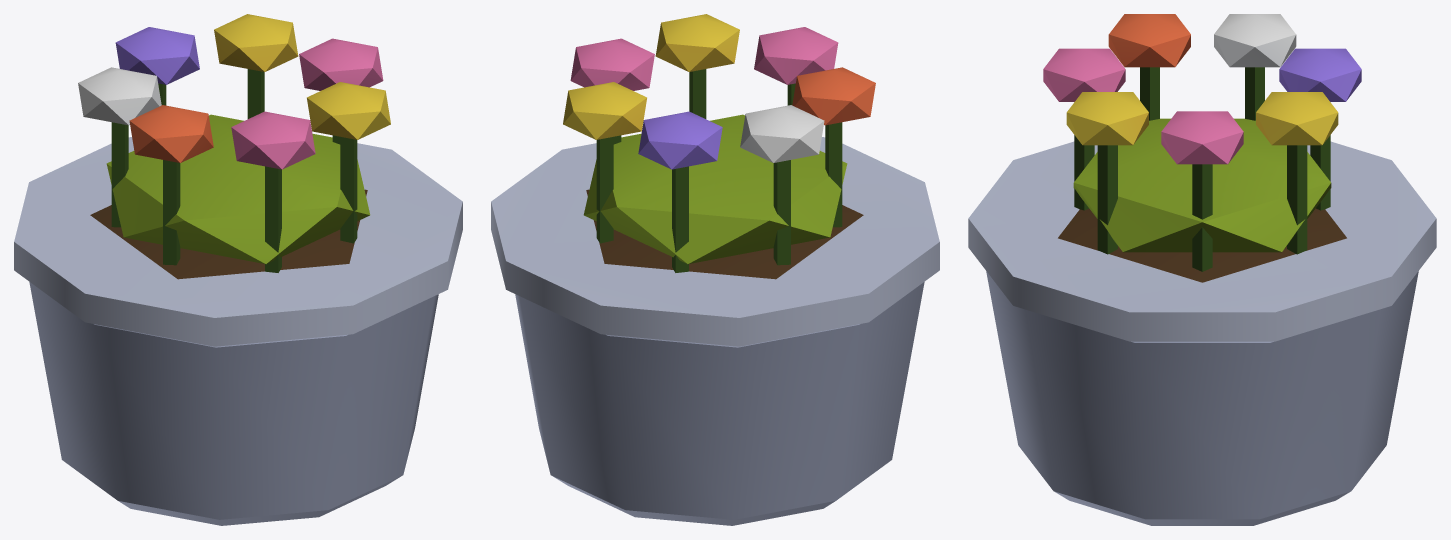
Rendered from b_kuebel.glb.
The picture shows the model from 3 angles, left to right: view 1: azimuth 30°, elevation 25°; view 2: azimuth 150°, elevation 25°; view 3: azimuth 270°, elevation 25°; orthographic projection. The views are drawn at different scales.
Visible parts, largest first — view 1: body; view 2: body; view 3: body.
Boxes of the visible parts, x1,y1,x2,y2 form: body: (14,14,462,525); body: (491,14,939,525); body: (968,14,1436,525).
Size of the model in its own units: 1.1 by 1.09 by 1.16.
